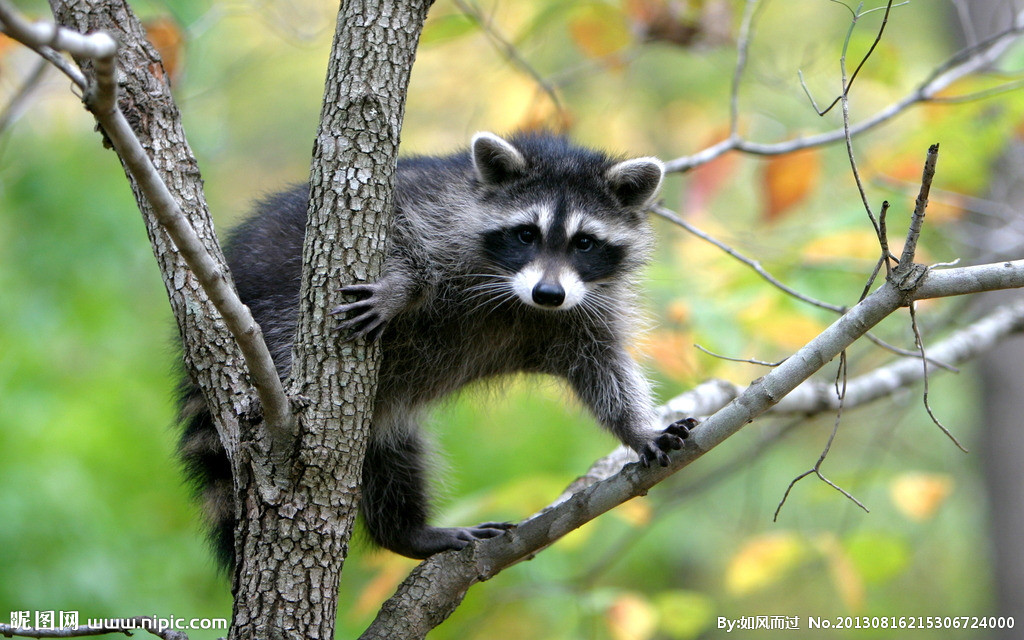raccoon: (165, 121, 710, 593)
